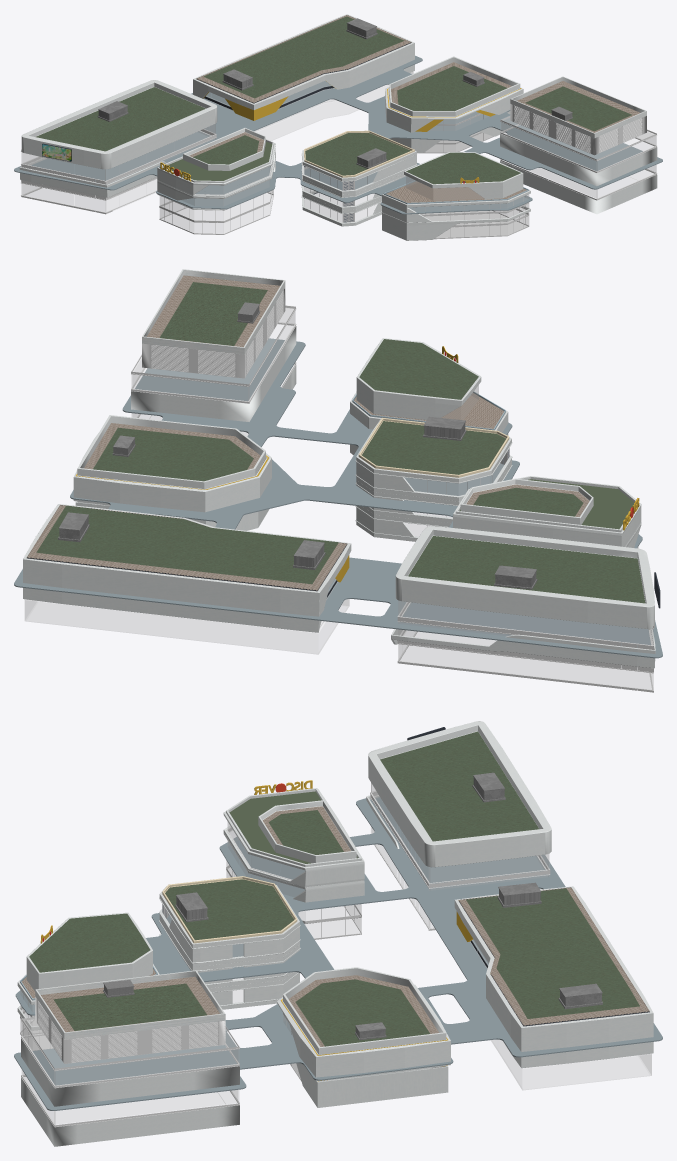
File: shopping-building.glb
3 renders of one model, top to bottom at view 1: azimuth 30°, elevation 25°; view 2: azimuth 150°, elevation 25°; view 3: azimuth 270°, elevation 25°, orthographic. The views are drawn at different scales.
Parts seen in each view (by area): view 1: 1号楼.002, 商业综合题地基 2.001_PropNode, 5 号楼, 1号楼, 1号楼.003, 2号楼.001, 7号楼.002, 3号楼.002, 4号楼, 7号楼, 4号楼.002, 5 号楼.001 (+24 smaller); view 2: 1号楼.002, 商业综合题地基 2.001_PropNode, 7号楼.002, 1号楼, 5 号楼, 1号楼.003, 7号楼, 3号楼.002, 6 号楼.003, 6 号楼.001, 5 号楼.001, 1号楼.001 (+16 smaller); view 3: 1号楼.002, 商业综合题地基 2.001_PropNode, 5 号楼, 1号楼.003, 7号楼.002, 3号楼.002, 1号楼, 6 号楼.003, 5 号楼.001, 6 号楼.001, 6 号楼.005, 7号楼 (+15 smaller).
Part boxes in pixels (x1,y1,x2,y2): 1号楼.002: (36,16,631,184); 商业综合题地基 2.001_PropNode: (14,55,662,214); 5 号楼: (500,104,657,214); 1号楼: (21,124,216,214); 1号楼.003: (21,80,217,169); 2号楼.001: (159,147,273,234); 7号楼.002: (193,14,414,109); 3号楼.002: (301,150,417,226); 4号楼: (386,194,529,239); 7号楼: (196,15,413,140); 4号楼.002: (382,190,530,240); 5 号楼.001: (510,76,646,138); 1号楼.002: (36,282,645,603); 商业综合题地基 2.001_PropNode: (14,338,662,658); 7号楼.002: (23,504,351,632); 1号楼: (397,600,653,692); 5 号楼: (131,287,296,435); 1号楼.003: (395,526,654,629); 7号楼: (25,505,349,654); 3号楼.002: (355,419,512,541); 6 号楼.003: (73,433,271,512); 6 号楼.001: (77,415,265,488); 5 号楼.001: (142,269,285,354); 1号楼.001: (391,629,655,668); 1号楼.002: (29,731,639,1046); 商业综合题地基 2.001_PropNode: (14,797,662,1110); 5 号楼: (21,997,239,1146); 1号楼.003: (368,721,551,867); 7号楼.002: (454,886,653,1068); 3号楼.002: (159,885,300,1009); 1号楼: (370,783,550,930); 6 号楼.003: (277,984,450,1081); 5 号楼.001: (35,970,225,1039); 6 号楼.001: (283,967,446,1054); 6 号楼.005: (296,1063,448,1107); 7号楼: (456,887,651,1090).
Bounding box in the file's own units: 144 × 21.61 × 114.
Materials: 22 (11 with a texture image).
